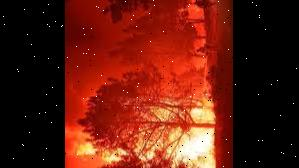fire: (68, 90, 224, 168)
